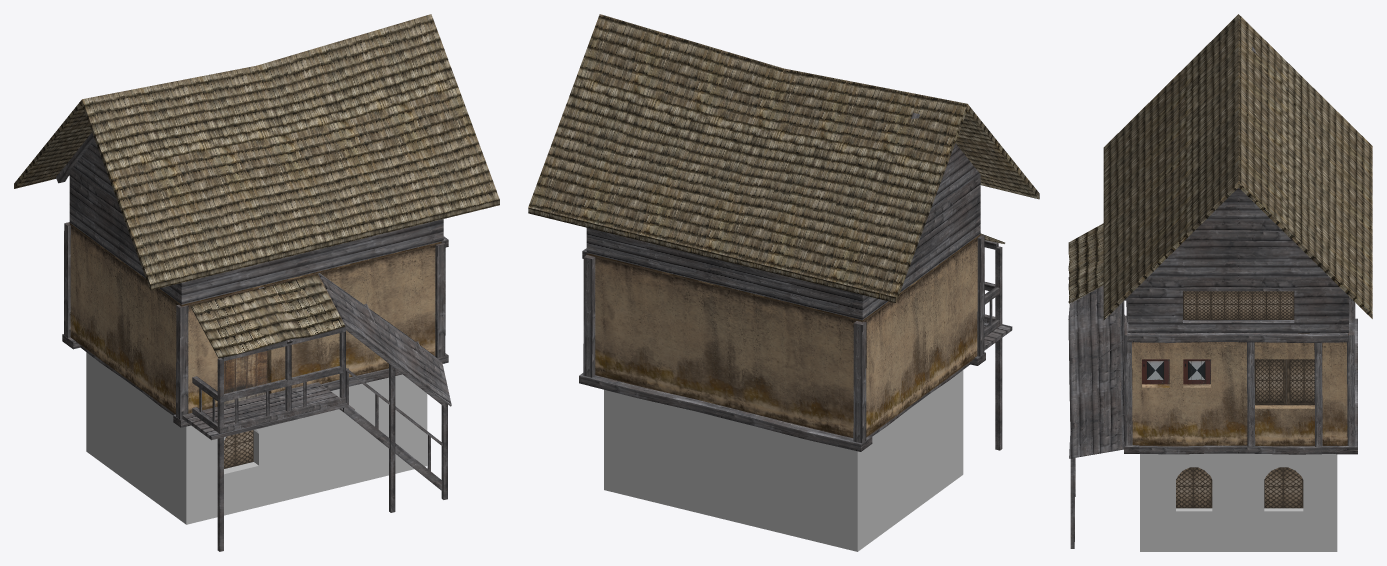
The model's file is v3_house1_LOD1.dae.
3 renders of one model, left to right at view 1: azimuth 30°, elevation 25°; view 2: azimuth 150°, elevation 25°; view 3: azimuth 270°, elevation 25°, orthographic. The views are drawn at different scales.
Parts seen in each view (by area): view 1: roof_01, woodPlanks, s1, conj_dirt_01, doorwindow_set; view 2: roof_01, conj_dirt_01, s1, woodPlanks; view 3: roof_01, woodPlanks, conj_dirt_01, s1, doorwindow_set.
Part boxes in pixels (left/top/right/bottom): roof_01: left=14, top=14, right=499, bottom=358; woodPlanks: left=56, top=132, right=451, bottom=551; s1: left=86, top=352, right=427, bottom=524; conj_dirt_01: left=69, top=223, right=441, bottom=414; doorwindow_set: left=224, top=351, right=267, bottom=468; roof_01: left=528, top=14, right=1039, bottom=302; conj_dirt_01: left=586, top=234, right=980, bottom=437; s1: left=604, top=370, right=963, bottom=551; woodPlanks: left=579, top=112, right=1012, bottom=451; roof_01: left=1068, top=14, right=1372, bottom=320; woodPlanks: left=1068, top=46, right=1357, bottom=548; conj_dirt_01: left=1132, top=333, right=1348, bottom=446; s1: left=1140, top=453, right=1337, bottom=551; doorwindow_set: left=1142, top=291, right=1314, bottom=508.
Bounding box in the file's own units: 8.92 × 9.91 × 6.83.
